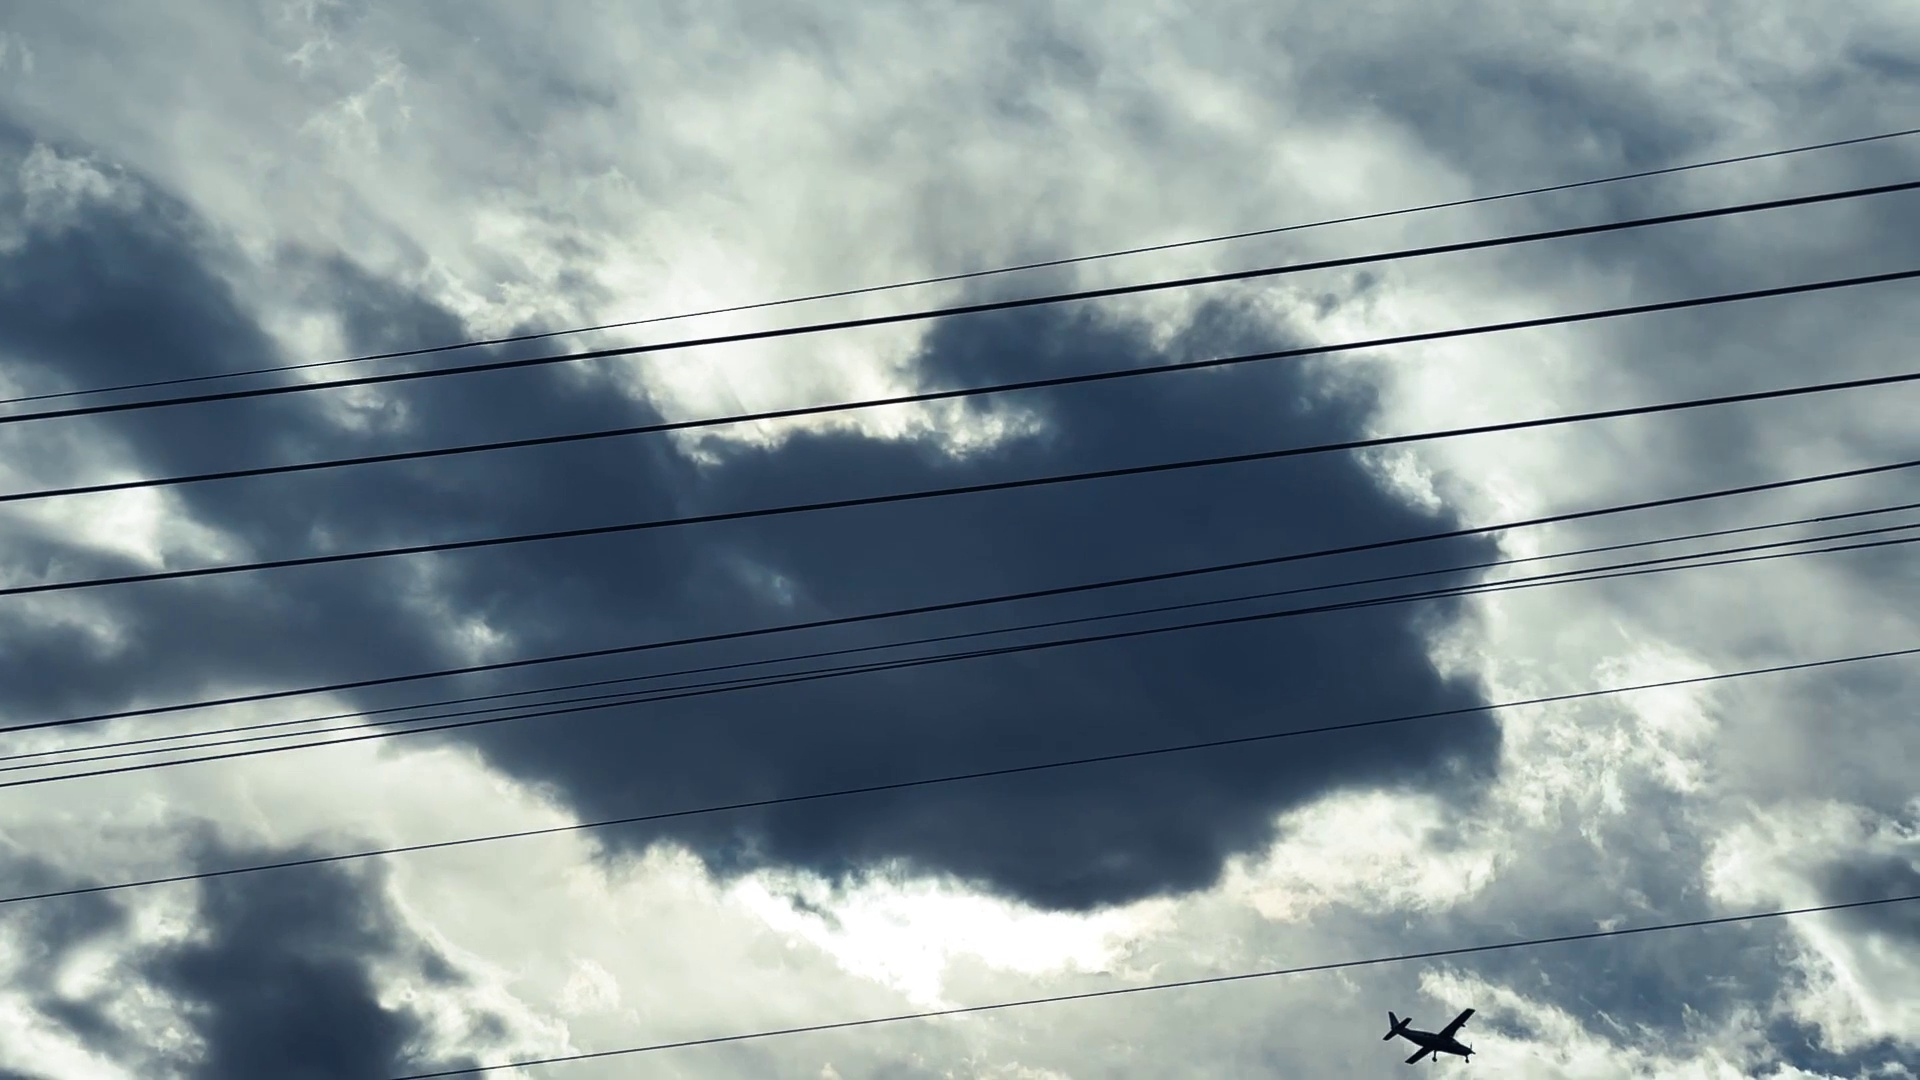plane: (1383, 1006, 1477, 1062)
